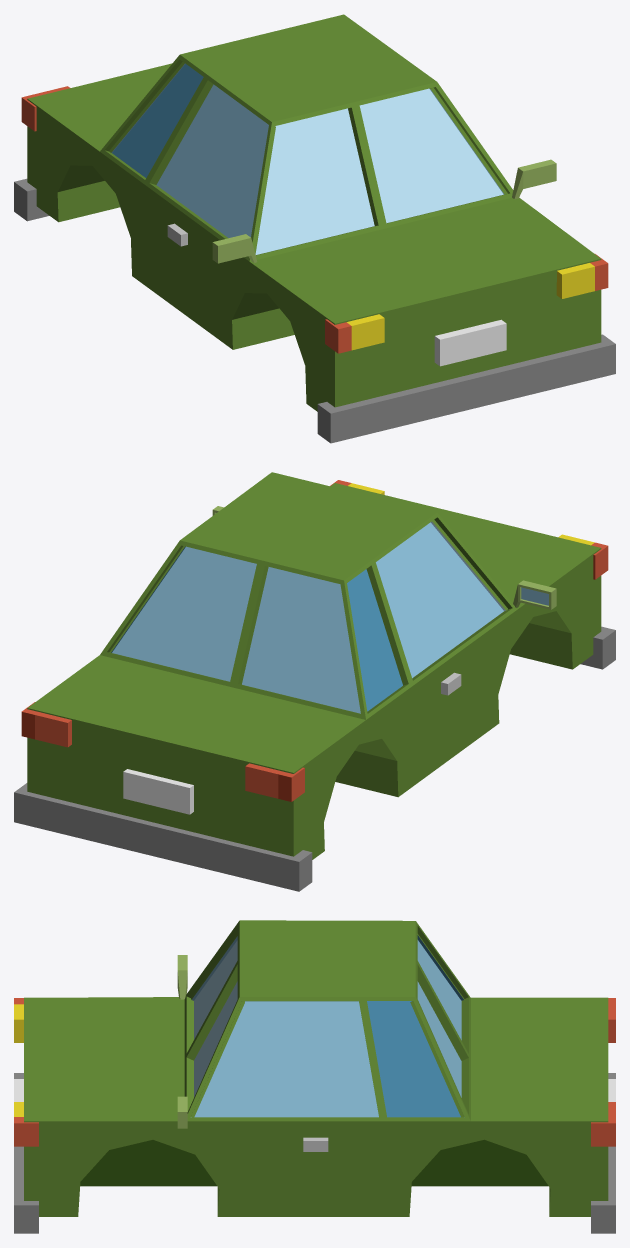
The model's file is Car.glb.
The picture shows the model from 3 angles, top to bottom: view 1: azimuth 30°, elevation 25°; view 2: azimuth 150°, elevation 25°; view 3: azimuth 270°, elevation 25°; orthographic projection. The views are drawn at different scales.
Visible parts, largest first — view 1: Car-01; view 2: Car-01; view 3: Car-01.
Part boxes in pixels (x1=…): Car-01: x1=14, y1=14, x2=615, y2=443; Car-01: x1=14, y1=472, x2=615, y2=891; Car-01: x1=14, y1=920, x2=615, y2=1233.
Size of the model in its own units: 1.74 by 1.08 by 2.81.
1 material, 1 textured.
